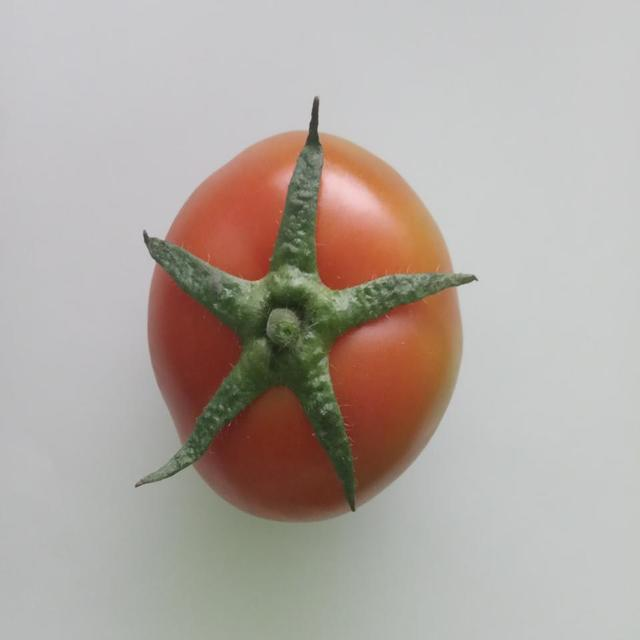Healthy Fruit: (86, 60, 319, 356)
